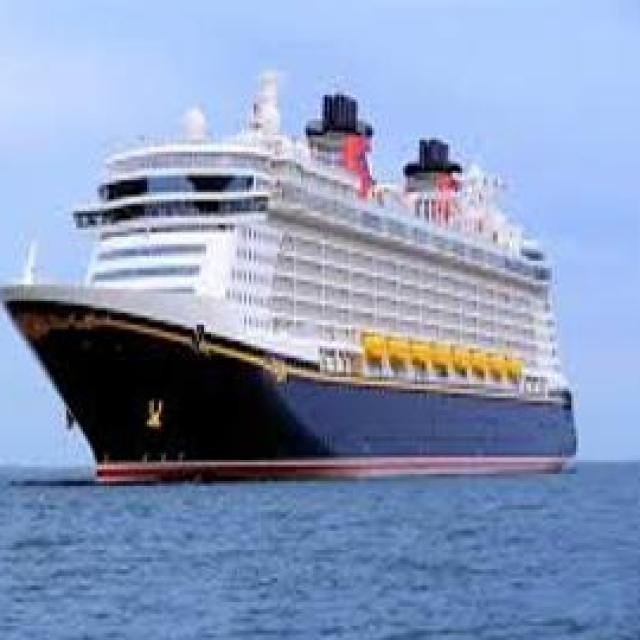passenger ship: (0, 66, 581, 474)
